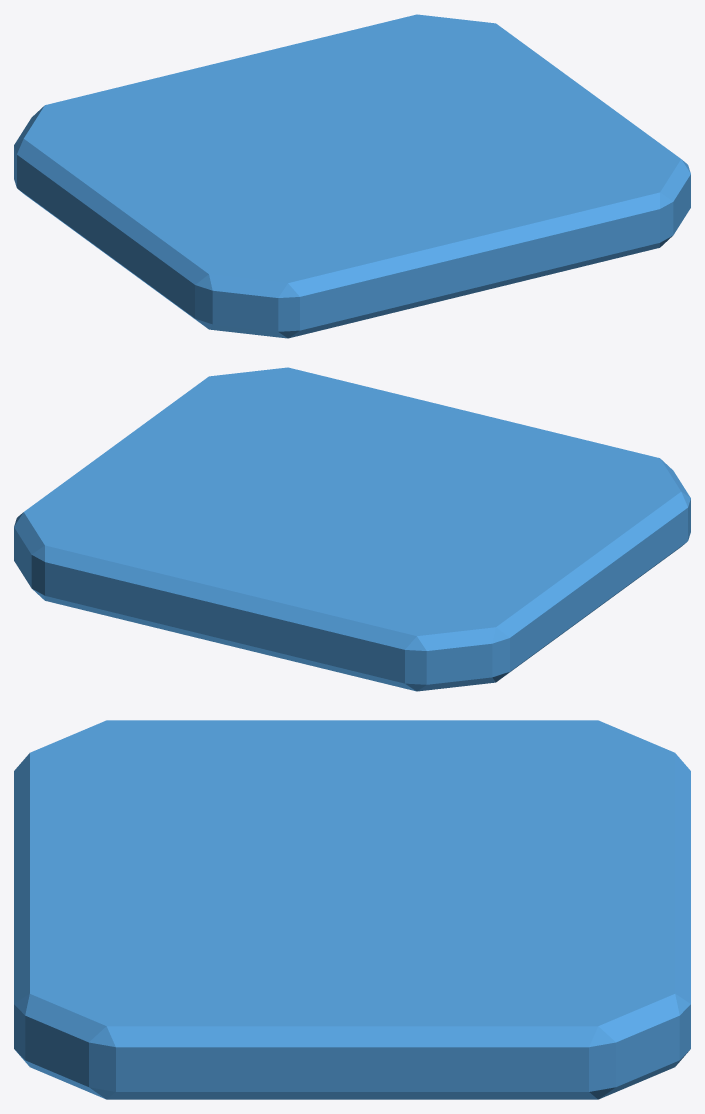
The model's file is Lvl01_WaterPlaceHolder.fbx.
The picture shows the model from 3 angles, top to bottom: view 1: azimuth 30°, elevation 25°; view 2: azimuth 150°, elevation 25°; view 3: azimuth 270°, elevation 25°; orthographic projection. The views are drawn at different scales.
Visible parts, largest first — view 1: Water_01; view 2: Water_01; view 3: Water_01.
Part boxes in pixels (x1,y1,x2,y2): Water_01: (14,14,690,338); Water_01: (14,367,690,691); Water_01: (14,720,690,1099).
Bounding box in the file's own units: 9534 × 1023 × 8545.
